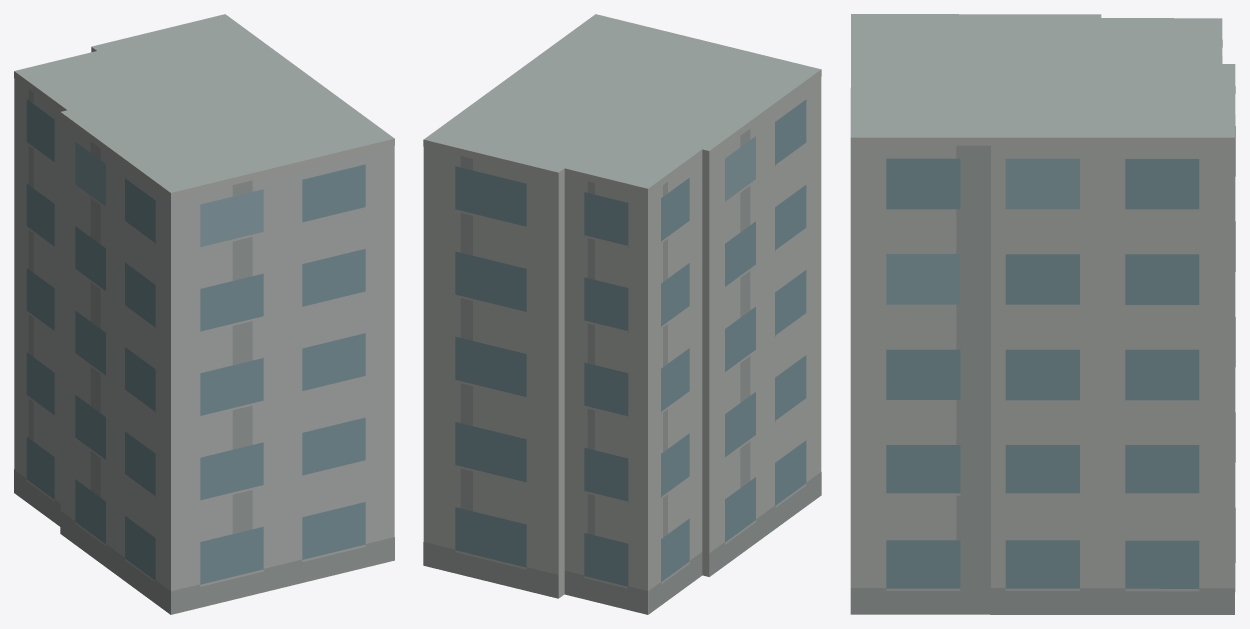
Rendered from survey-upis-32890668.glb.
The picture shows the model from 3 angles, left to right: view 1: azimuth 30°, elevation 25°; view 2: azimuth 150°, elevation 25°; view 3: azimuth 270°, elevation 25°; orthographic projection. The views are drawn at different scales.
Visible parts, largest first — view 1: survey-upis-32890668.tmp; view 2: survey-upis-32890668.tmp; view 3: survey-upis-32890668.tmp.
Part boxes in pixels (x1,y1,x2,y2): survey-upis-32890668.tmp: (14,14,394,614); survey-upis-32890668.tmp: (423,14,821,614); survey-upis-32890668.tmp: (850,14,1235,614).
Bounding box in the file's own units: 7.98 × 14.3 × 10.48.
